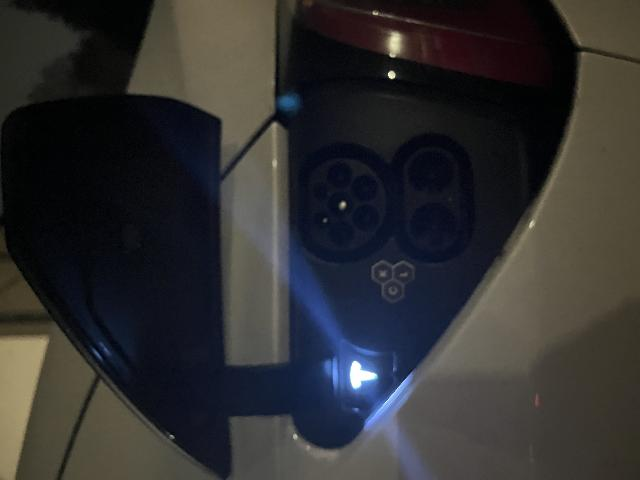inlet: (228, 307, 323, 386)
inlet-above-left: (249, 311, 270, 330)
inlet-above-right: (277, 312, 298, 328)
inlet-below-left: (249, 352, 275, 378)
inlet-below-right: (279, 352, 305, 377)
inlet-circle: (262, 327, 288, 353)
inlet-circle-left: (232, 327, 259, 354)
inlet-circle-right: (291, 326, 317, 351)
inlet-minus: (286, 408, 328, 453)
inlet-plus: (233, 409, 277, 454)
